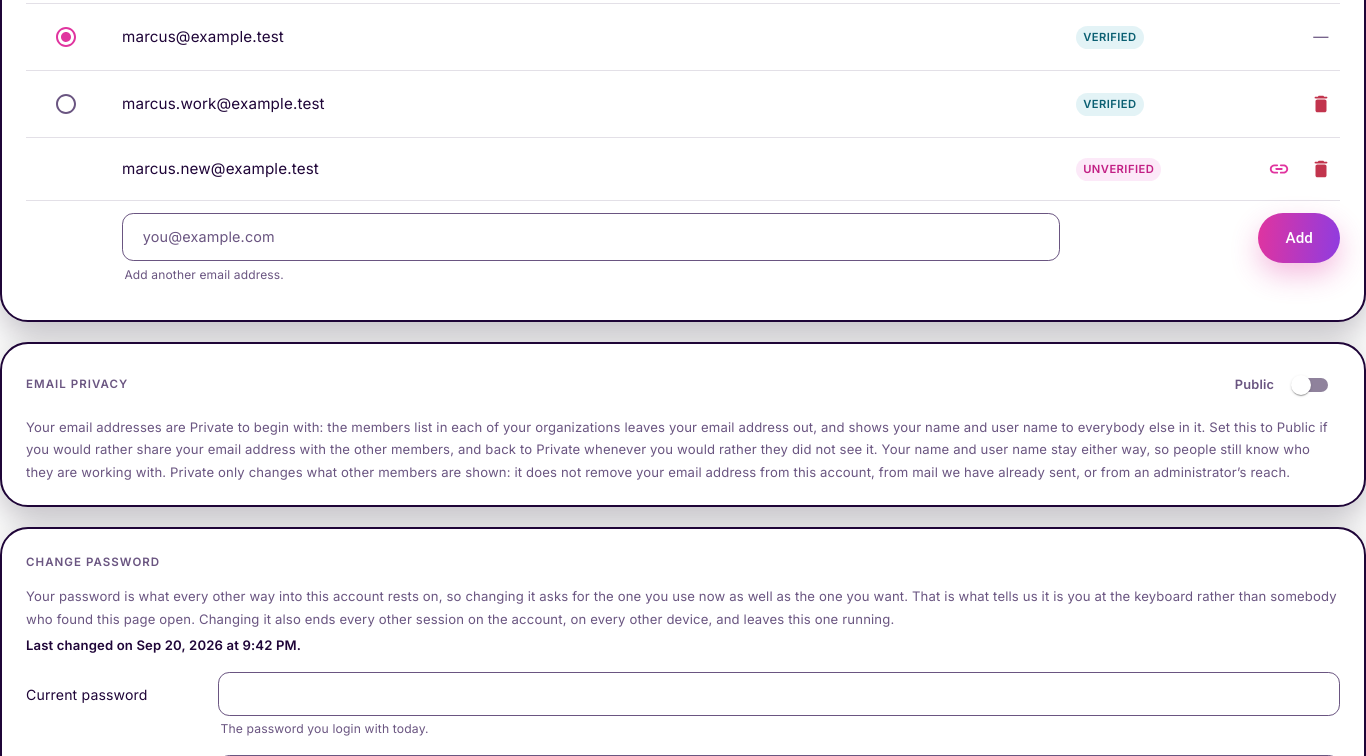
the privacy switch › says so when the setting was not saved
(page scrolled)
Click the switch named "Keep my email addresses private". click: {"x": 1254, "y": 384}
box: [1235,375,1328,395]
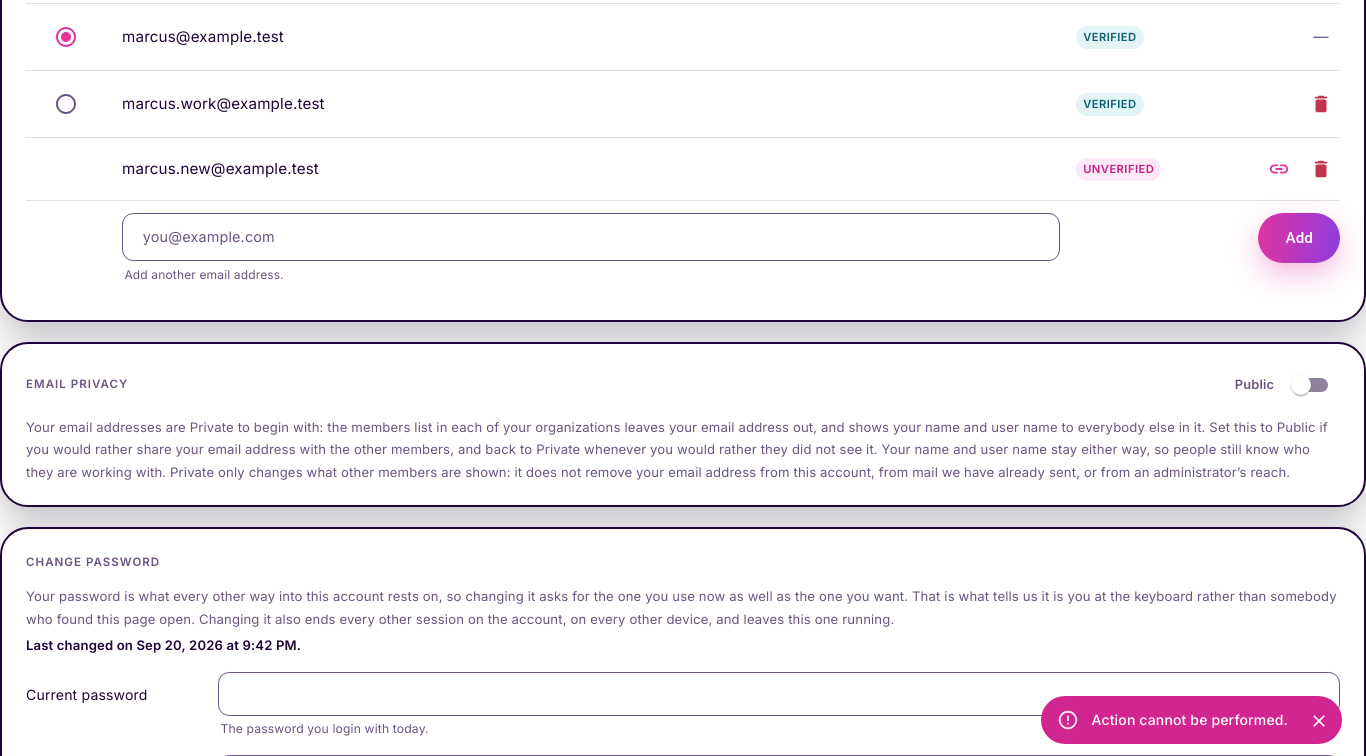
Now the text "Action cannot be performed." is shown, box [1092,711,1288,728]
